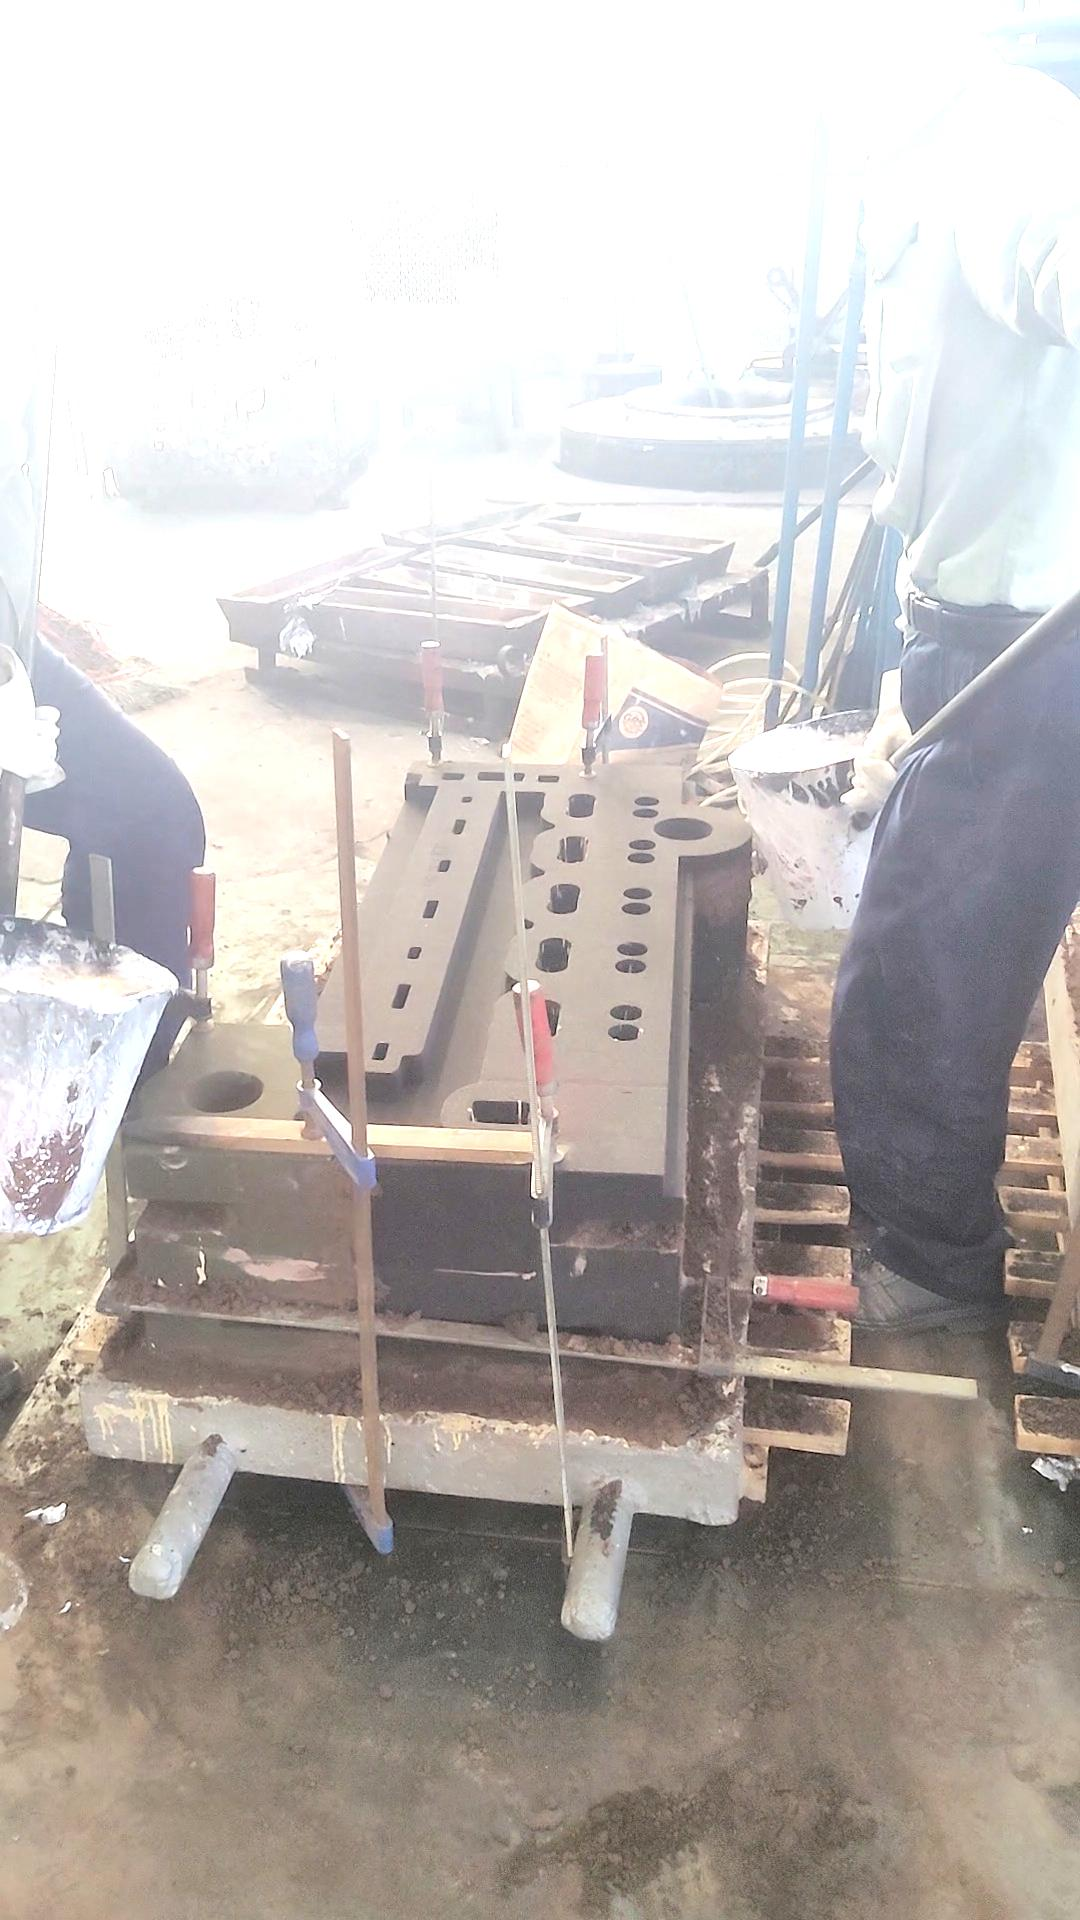pouring hole: (183, 1069, 265, 1112), (653, 816, 713, 841)
